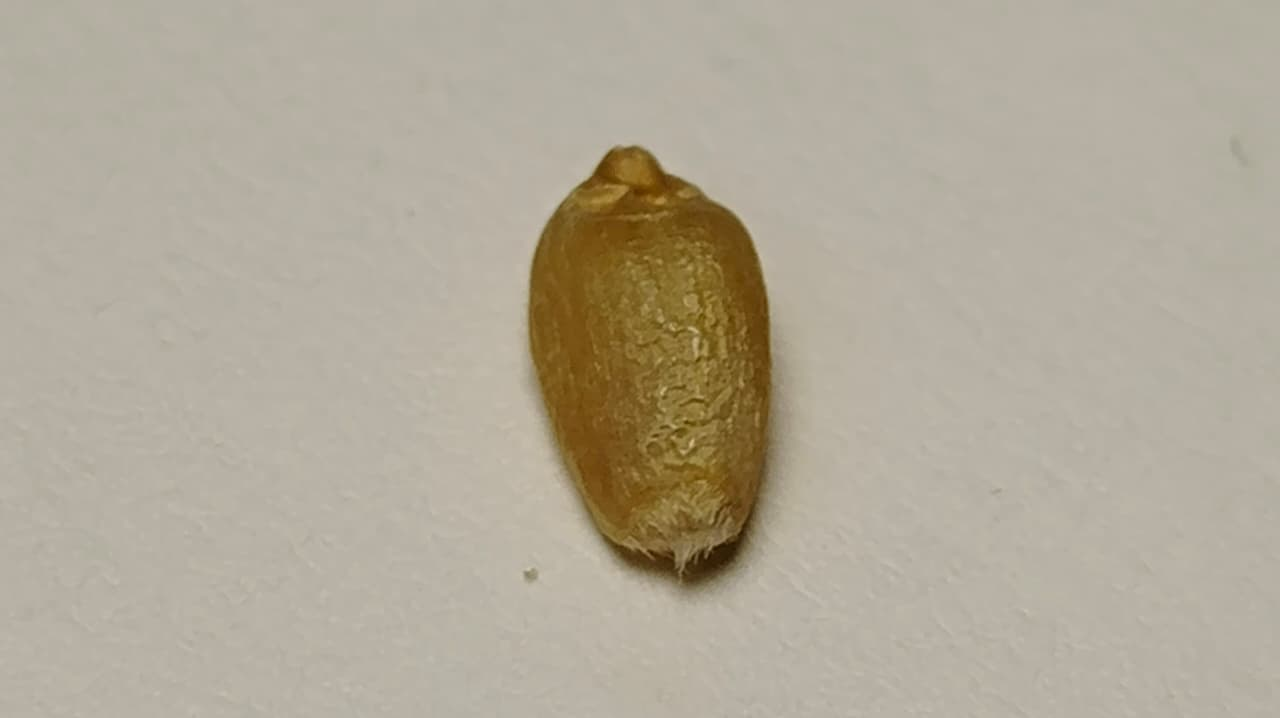healthy: (530, 147, 769, 566)
